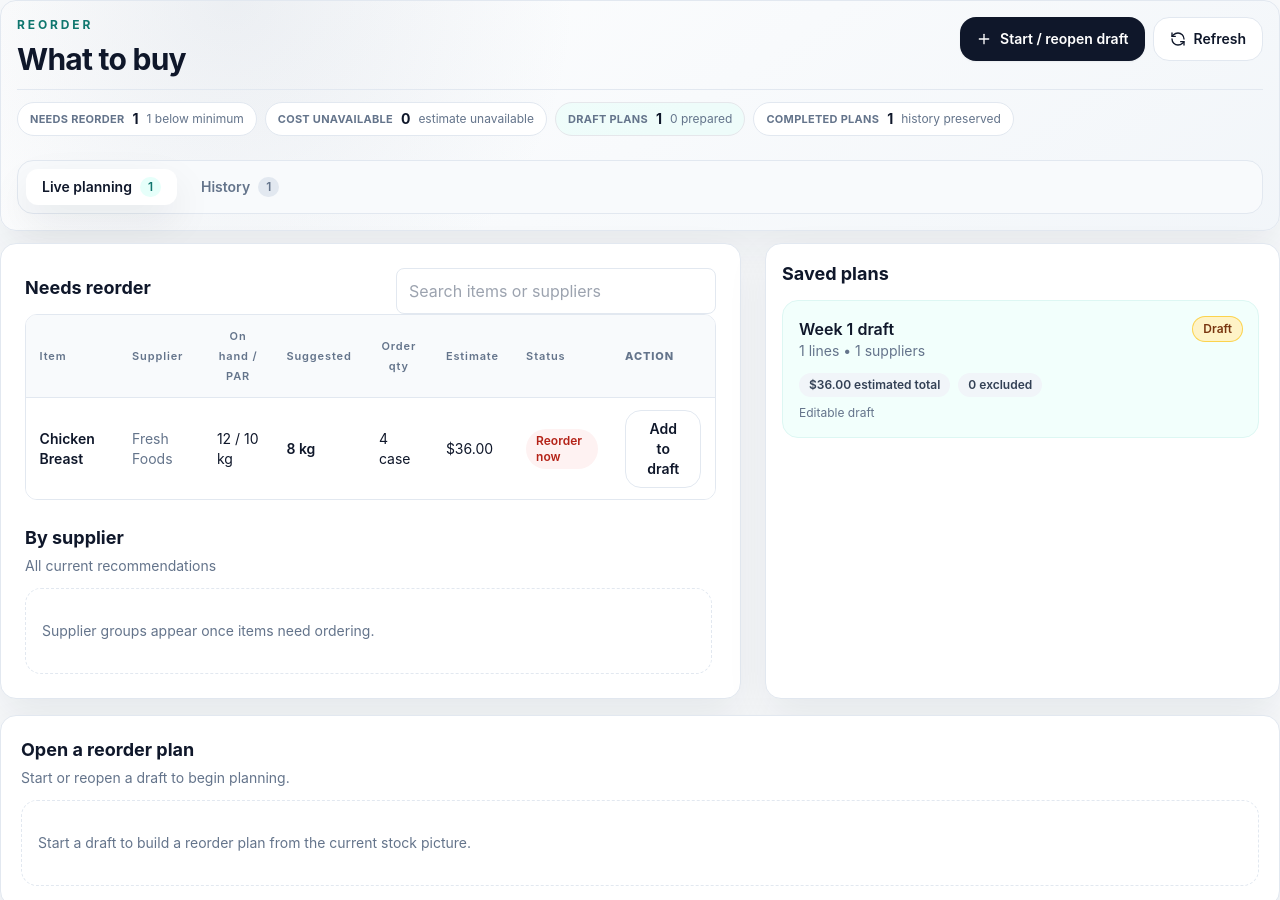
Test case: PilotReorderPlanPage › explains when every active inventory item is already in the draft
What coordinates should you click on to do the following:
click the button "Week 1 draft"
I would click on:
 (847, 329)
Its box is [782,300,1259,438].
(page scrolled)
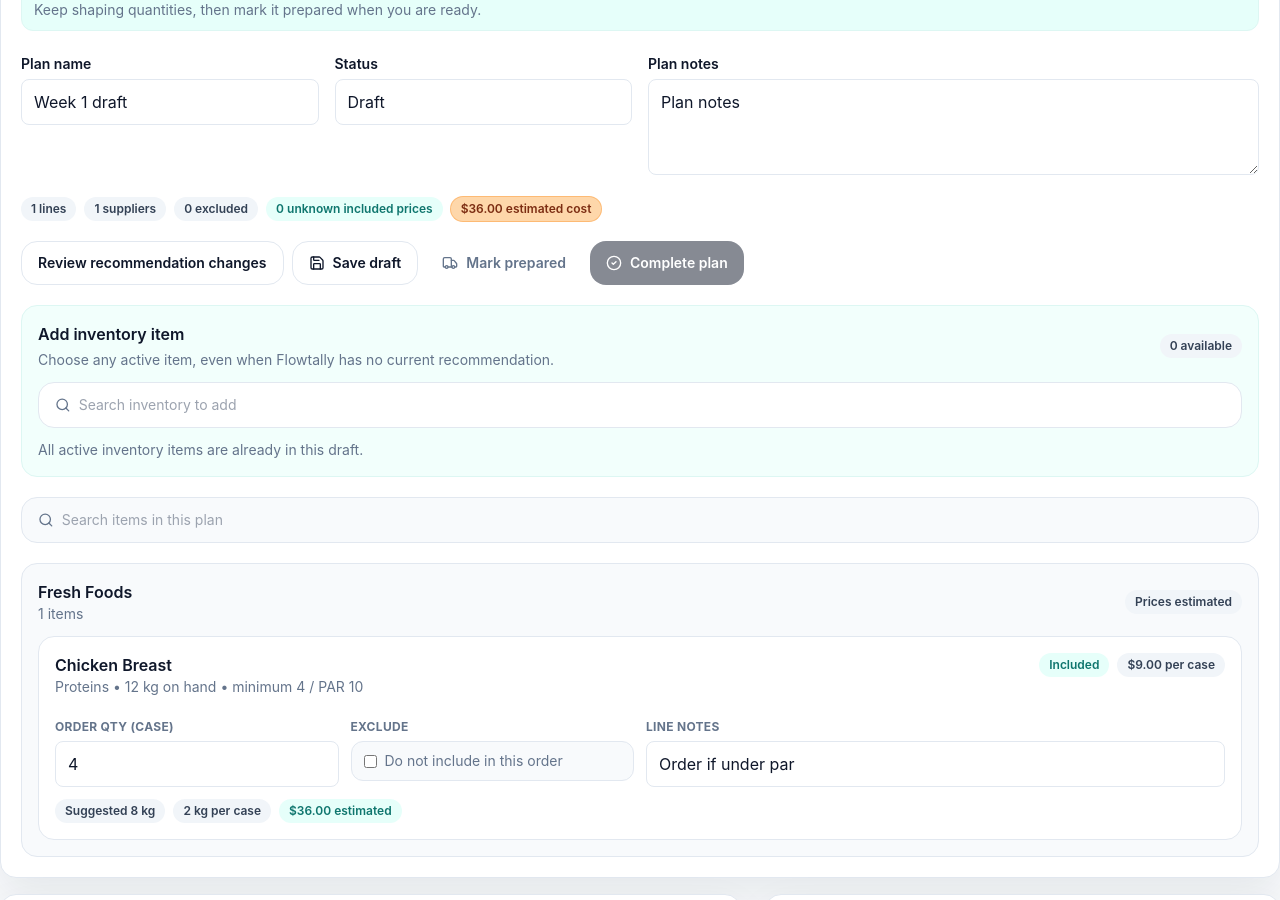
Now the text "All active inventory items are already in this draft." is shown, box [38,441,363,458]
